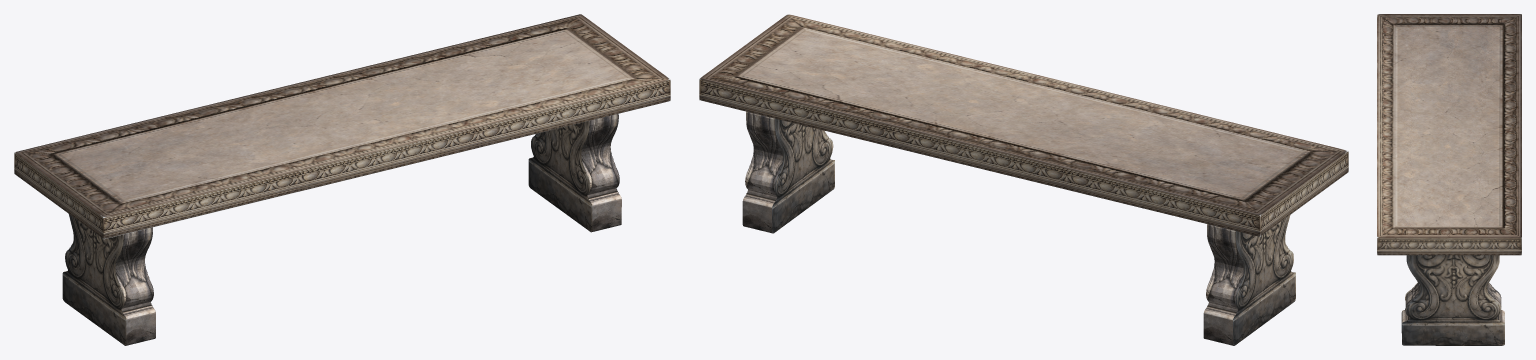
The model's file is Decoración_Mapa.fbx.
3 views of the same model, side by side, from view 1: azimuth 30°, elevation 25°; view 2: azimuth 150°, elevation 25°; view 3: azimuth 270°, elevation 25° (orthographic). The views are drawn at different scales.
Visible parts, largest first — view 1: Banca_C, Banca_B, Banca_A; view 2: Banca_C, Banca_B, Banca_A; view 3: Banca_C, Banca_A.
Boxes of the visible parts, x1,y1,x2,y2 form: Banca_C: (14, 14, 670, 239); Banca_B: (62, 214, 155, 345); Banca_A: (528, 114, 621, 232); Banca_C: (699, 14, 1348, 236); Banca_B: (1203, 215, 1295, 345); Banca_A: (742, 111, 834, 233); Banca_C: (1377, 14, 1521, 255); Banca_A: (1401, 255, 1504, 345).
Size of the model in its own units: 0.2162 by 0.0546 by 0.0592.
